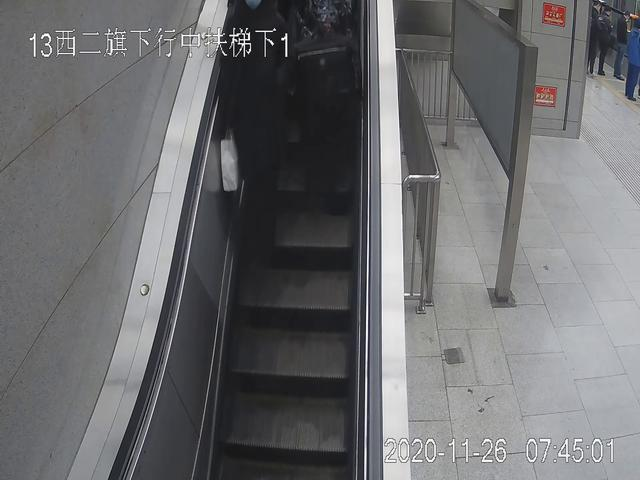person: (213, 1, 298, 251), (597, 6, 616, 76), (624, 18, 640, 99)
